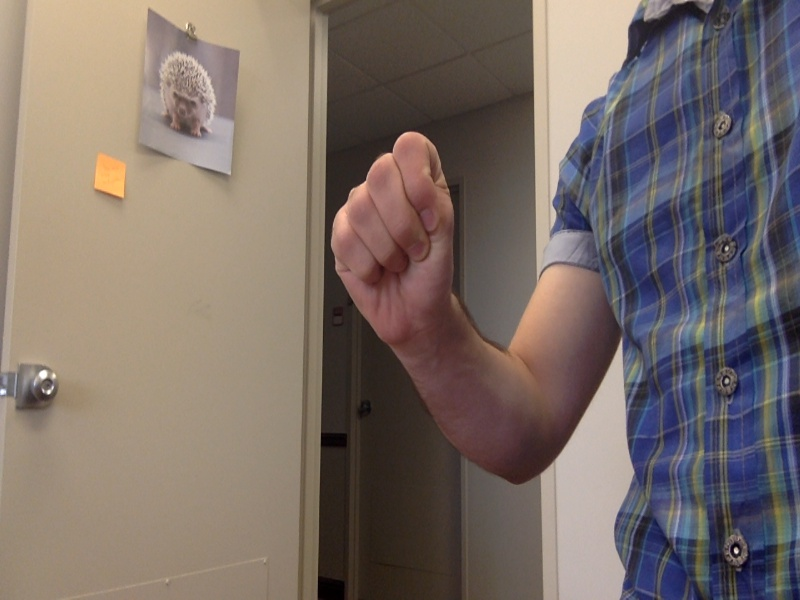0-hand: (331, 130, 457, 344)
